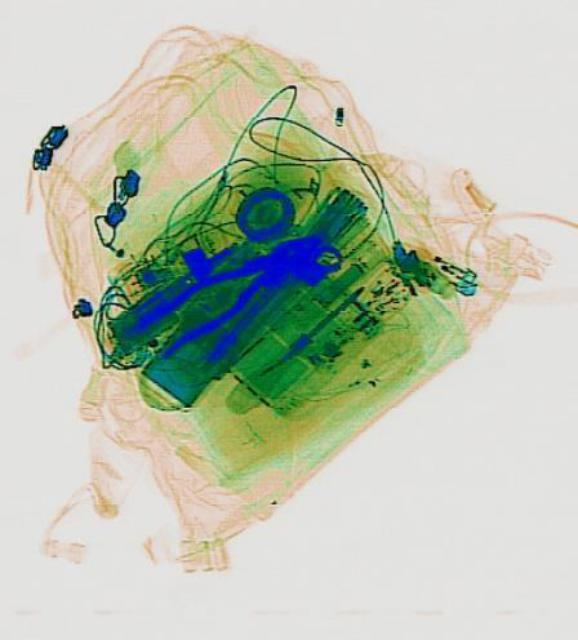Pliers: (126, 215, 328, 362)
